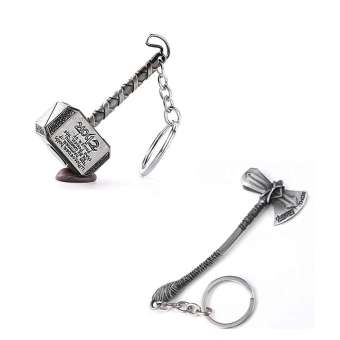THOR Hammer: (151, 166, 322, 323), (32, 30, 174, 180)
